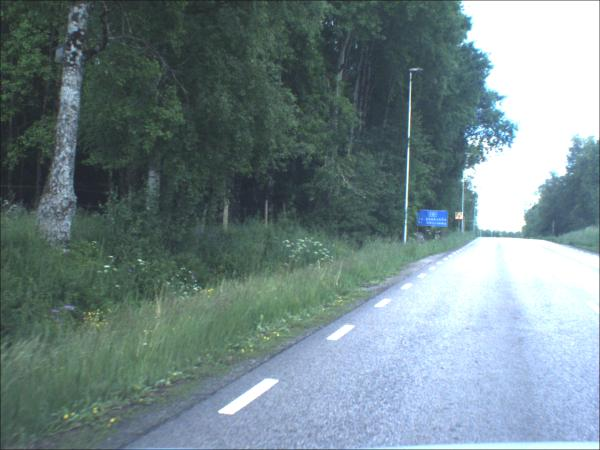WARNING: (455, 213, 464, 221)
